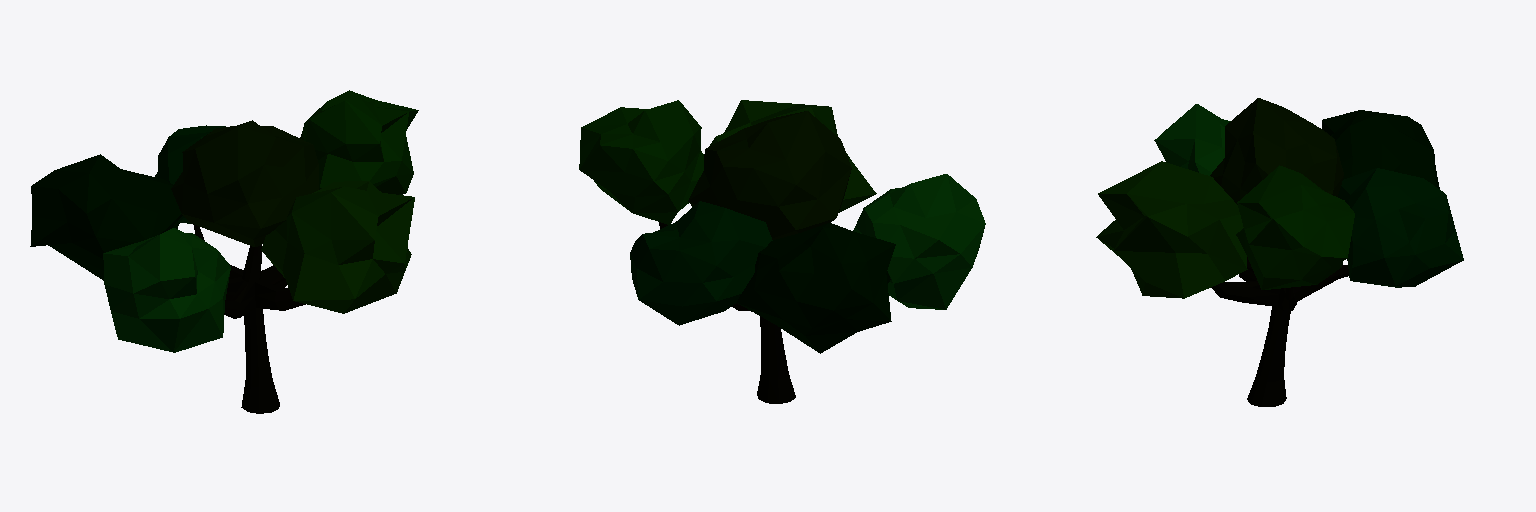
The model's file is tree.obj.
3 views of the same model, side by side, from view 1: azimuth 30°, elevation 25°; view 2: azimuth 150°, elevation 25°; view 3: azimuth 270°, elevation 25° (orthographic).
Parts seen in each view (by area): view 1: Icosphere.003, Cylinder; view 2: Icosphere.003, Cylinder; view 3: Icosphere.003, Cylinder.
Boxes of the visible parts, box(x1,y1,x2,y2) form: Icosphere.003: box(30, 90, 418, 352); Cylinder: box(193, 224, 305, 413); Icosphere.003: box(579, 100, 985, 353); Cylinder: box(659, 222, 795, 403); Icosphere.003: box(1096, 98, 1463, 298); Cylinder: box(1211, 257, 1348, 406).
Size of the model in its own units: 3.04 by 2.39 by 2.77.